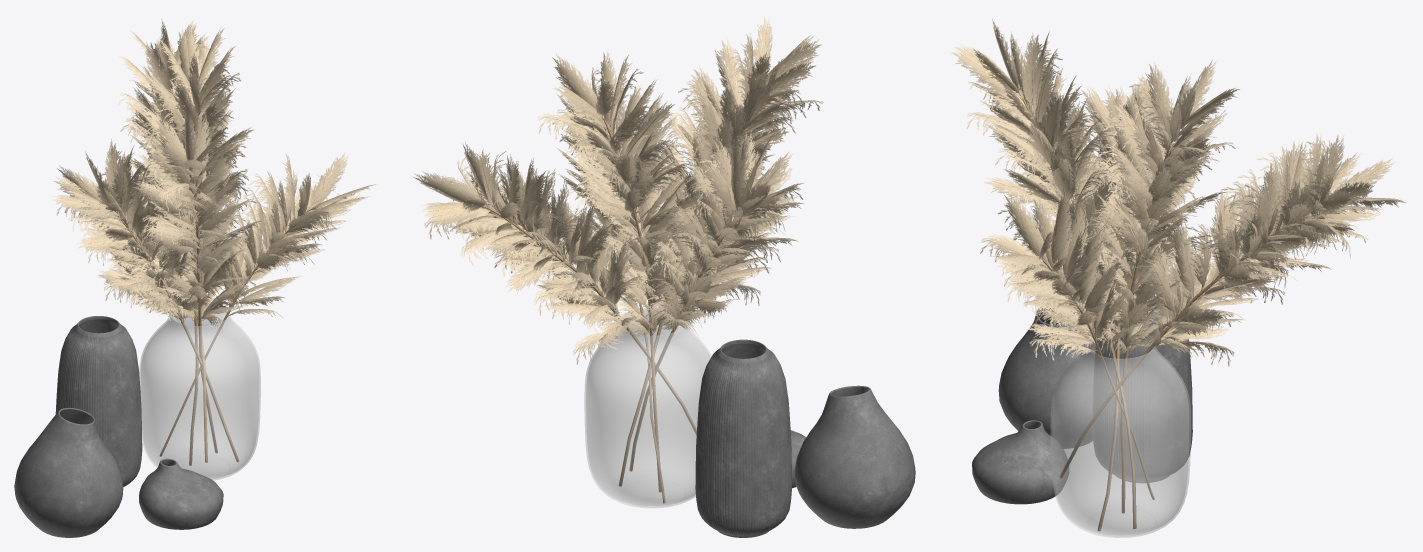
3 renders of one model, left to right at view 1: azimuth 30°, elevation 25°; view 2: azimuth 150°, elevation 25°; view 3: azimuth 270°, elevation 25°, orthographic. The views are drawn at different scales.
Parts seen in each view (by area): view 1: Item_Glass pitcher, Item_pampas twigs, Item_pampas twigs.002, Item_pampas twigs.001, Vases_Gray vase_01, Vases_black vase_07, Item_pampas twigs.004, Item_pampas twigs.003, Vases_Gray vase_02; view 2: Item_pampas twigs.003, Item_pampas twigs.004, Item_Glass pitcher, Item_pampas twigs.002, Vases_black vase_07, Item_pampas twigs, Vases_Gray vase_01, Item_pampas twigs.001; view 3: Item_pampas twigs.003, Item_Glass pitcher, Item_pampas twigs.004, Item_pampas twigs, Item_pampas twigs.001, Vases_black vase_07, Vases_Gray vase_01, Vases_Gray vase_02, Item_pampas twigs.002.
Part boxes in pixels (x1,y1,x2,y2): Item_Glass pitcher: (139, 302, 260, 480); Item_pampas twigs: (132, 108, 261, 453); Item_pampas twigs.002: (51, 140, 238, 462); Item_pampas twigs.001: (159, 152, 375, 456); Vases_Gray vase_01: (14, 407, 123, 537); Vases_black vase_07: (55, 316, 142, 486); Item_pampas twigs.004: (139, 27, 255, 465); Item_pampas twigs.003: (117, 19, 239, 462); Vases_Gray vase_02: (139, 458, 223, 529); Item_pampas twigs.003: (413, 141, 696, 435); Item_pampas twigs.004: (537, 50, 715, 492); Item_Glass pitcher: (584, 308, 711, 507); Item_pampas twigs.002: (629, 131, 803, 471); Vases_black vase_07: (695, 339, 791, 537); Item_pampas twigs: (614, 16, 823, 486); Vases_Gray vase_01: (794, 385, 915, 528); Item_pampas twigs.001: (557, 87, 665, 503); Item_pampas twigs.003: (1060, 134, 1405, 478); Item_Glass pitcher: (1051, 330, 1190, 537); Item_pampas twigs.004: (1083, 59, 1239, 513); Item_pampas twigs: (951, 19, 1151, 528); Item_pampas twigs.001: (980, 191, 1154, 499); Vases_black vase_07: (1092, 284, 1192, 482); Vases_Gray vase_01: (998, 302, 1095, 448); Vases_Gray vase_02: (972, 420, 1068, 504); Item_pampas twigs.002: (1074, 76, 1195, 531).
Size of the model in its own units: 0.5085 by 0.5935 by 0.528.
Materials: 5 (4 with a texture image).
